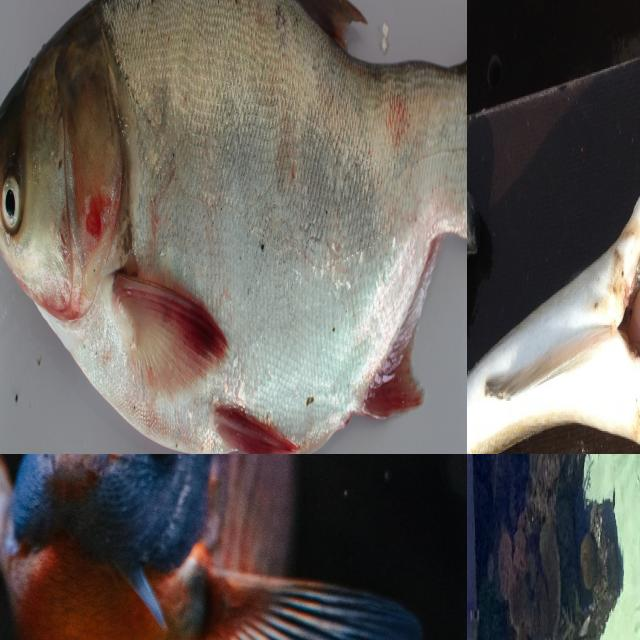fish: (0, 0, 467, 454), (467, 23, 640, 454), (0, 454, 397, 640)
